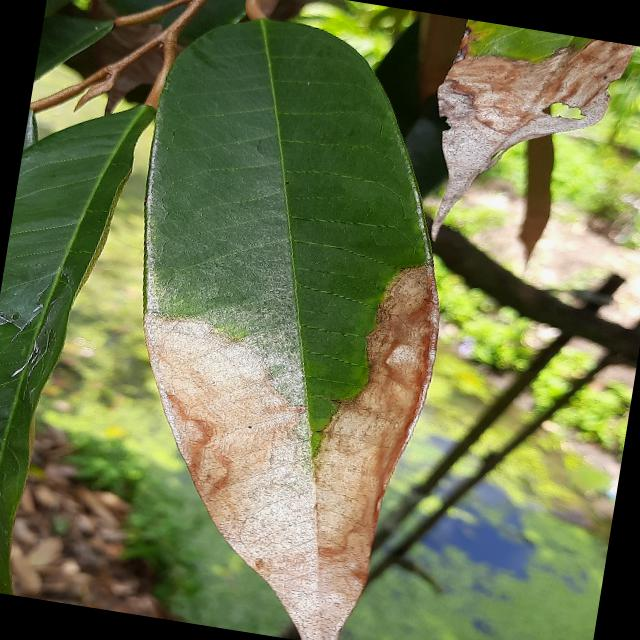Leaf Blight: (68, 0, 491, 639)
